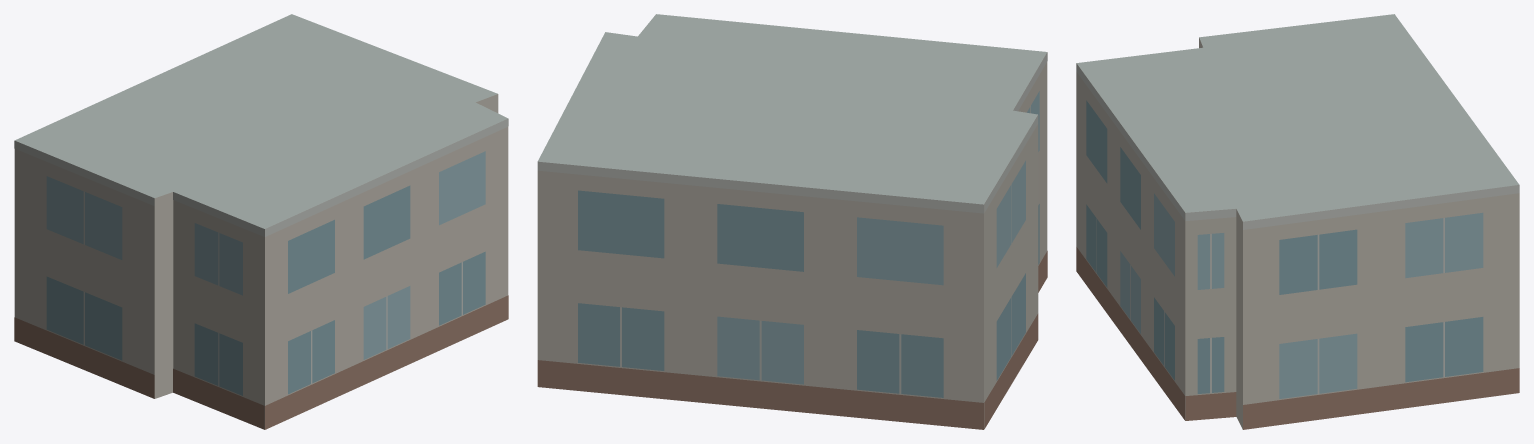
Rendered from survey-upis-32658878.glb.
The picture shows the model from 3 angles, left to right: view 1: azimuth 30°, elevation 25°; view 2: azimuth 150°, elevation 25°; view 3: azimuth 270°, elevation 25°; orthographic projection. The views are drawn at different scales.
Visible parts, largest first — view 1: survey-upis-32658878.tmp; view 2: survey-upis-32658878.tmp; view 3: survey-upis-32658878.tmp.
Boxes of the visible parts, x1,y1,x2,y2 form: survey-upis-32658878.tmp: (14, 14, 508, 429); survey-upis-32658878.tmp: (537, 14, 1047, 429); survey-upis-32658878.tmp: (1076, 14, 1519, 429).
Bounding box in the file's own units: 13.07 × 6.1 × 11.78.
